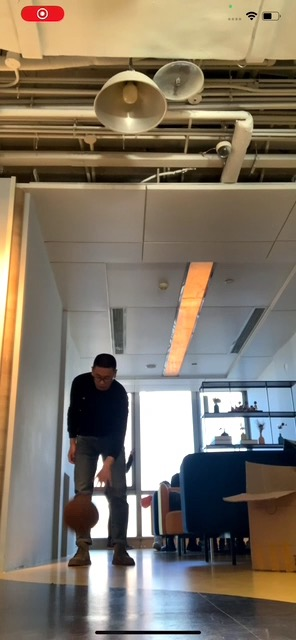ball: (64, 495, 99, 530)
